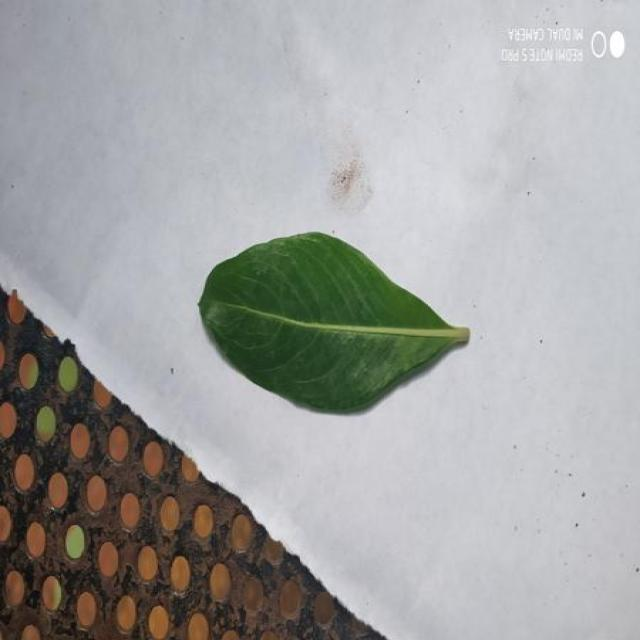catharanthus: (200, 232, 470, 412)
